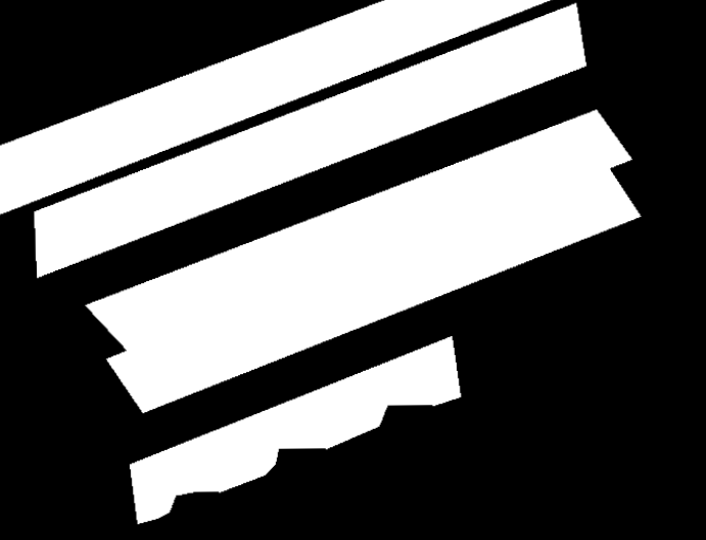parkingspot: (85, 109, 641, 413), (34, 3, 587, 278), (0, 0, 550, 215), (130, 336, 461, 524)
